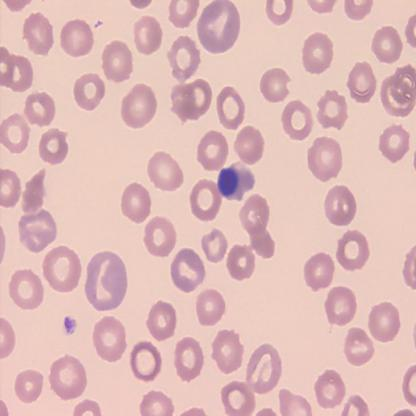NRC: (216, 164, 240, 202)
